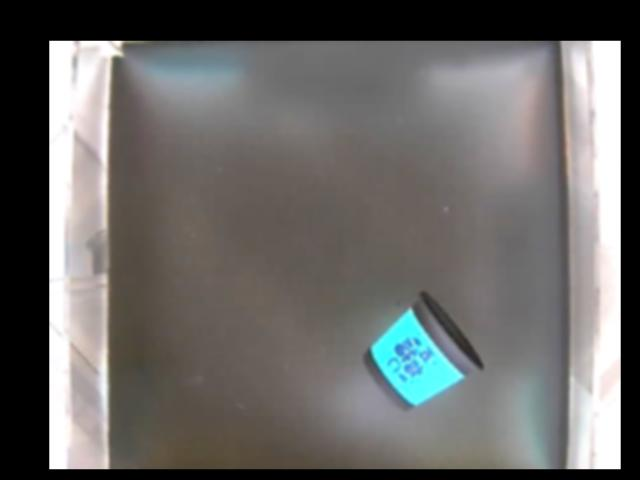Cup: (360, 289, 480, 412)
